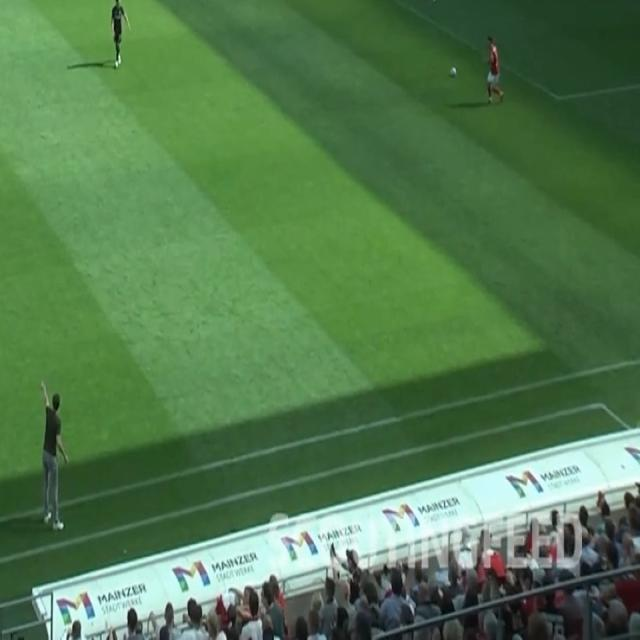ball: (449, 66, 457, 80)
